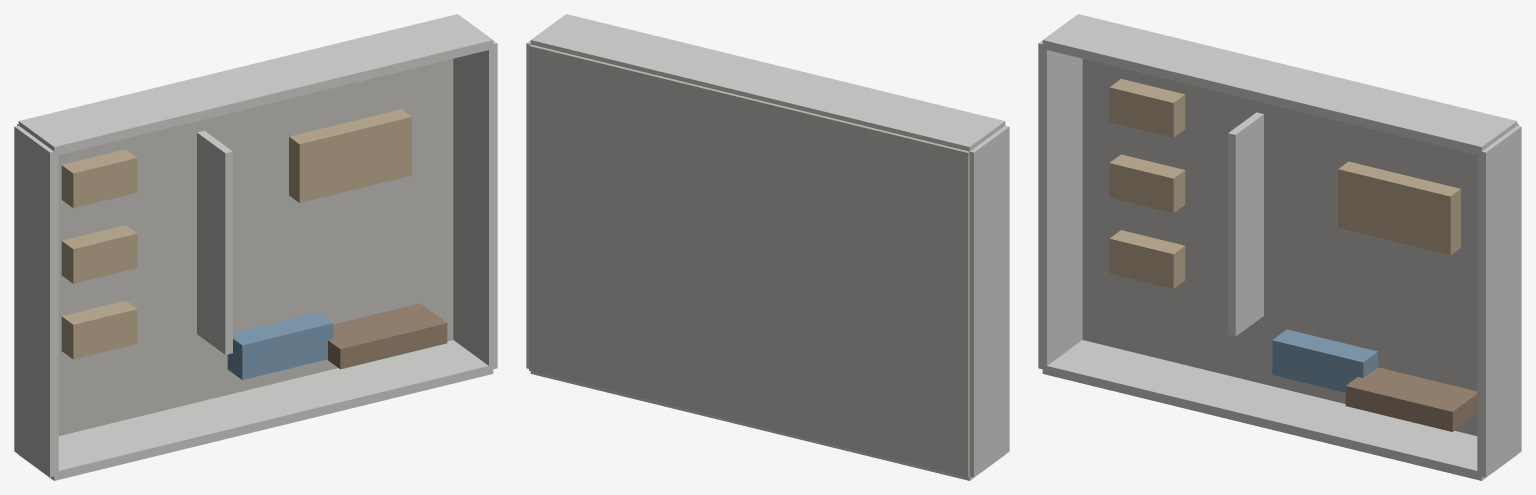
File: sample_3_office.glb
3 renders of one model, left to right at view 1: azimuth 30°, elevation 25°; view 2: azimuth 150°, elevation 25°; view 3: azimuth 330°, elevation 25°, orthographic.
Visible parts, largest first — view 1: floor, wall_north, wall_south, wall_west, wall_east, meeting_table, partition_long, storage_wall, sofa_waiting, desk_b, desk_a, desk_c; view 2: floor, wall_north, wall_west, wall_south, wall_east; view 3: floor, wall_north, wall_south, wall_east, wall_west, meeting_table, partition_long, storage_wall, sofa_waiting, desk_b, desk_a, desk_c.
Boxes of the visible parts, x1=… form: floor: x1=17, y1=59, x2=453, y2=435; wall_north: x1=18, y1=14, x2=493, y2=155; wall_south: x1=19, y1=340, x2=493, y2=480; wall_west: x1=14, y1=125, x2=58, y2=477; wall_east: x1=453, y1=40, x2=497, y2=369; meeting_table: x1=289, y1=109, x2=411, y2=202; partition_long: x1=197, y1=130, x2=232, y2=354; storage_wall: x1=327, y1=303, x2=447, y2=369; sofa_waiting: x1=227, y1=312, x2=333, y2=379; desk_b: x1=61, y1=225, x2=137, y2=283; desk_a: x1=61, y1=149, x2=137, y2=208; desk_c: x1=61, y1=300, x2=137, y2=359; floor: x1=529, y1=44, x2=969, y2=477; wall_north: x1=530, y1=14, x2=1005, y2=151; wall_west: x1=969, y1=125, x2=1009, y2=477; wall_south: x1=530, y1=371, x2=1004, y2=480; wall_east: x1=526, y1=40, x2=530, y2=368; floor: x1=1082, y1=59, x2=1518, y2=435; wall_north: x1=1042, y1=14, x2=1517, y2=155; wall_south: x1=1042, y1=340, x2=1516, y2=480; wall_east: x1=1477, y1=125, x2=1521, y2=477; wall_west: x1=1038, y1=40, x2=1082, y2=369; meeting_table: x1=1338, y1=161, x2=1460, y2=255; partition_long: x1=1228, y1=112, x2=1263, y2=336; storage_wall: x1=1345, y1=367, x2=1477, y2=431; sofa_waiting: x1=1272, y1=329, x2=1377, y2=392; desk_b: x1=1109, y1=154, x2=1185, y2=213; desk_a: x1=1109, y1=79, x2=1185, y2=137; desk_c: x1=1109, y1=230, x2=1185, y2=288.
Bounding box in the file's own units: 8.36 × 5.96 × 1.21.
